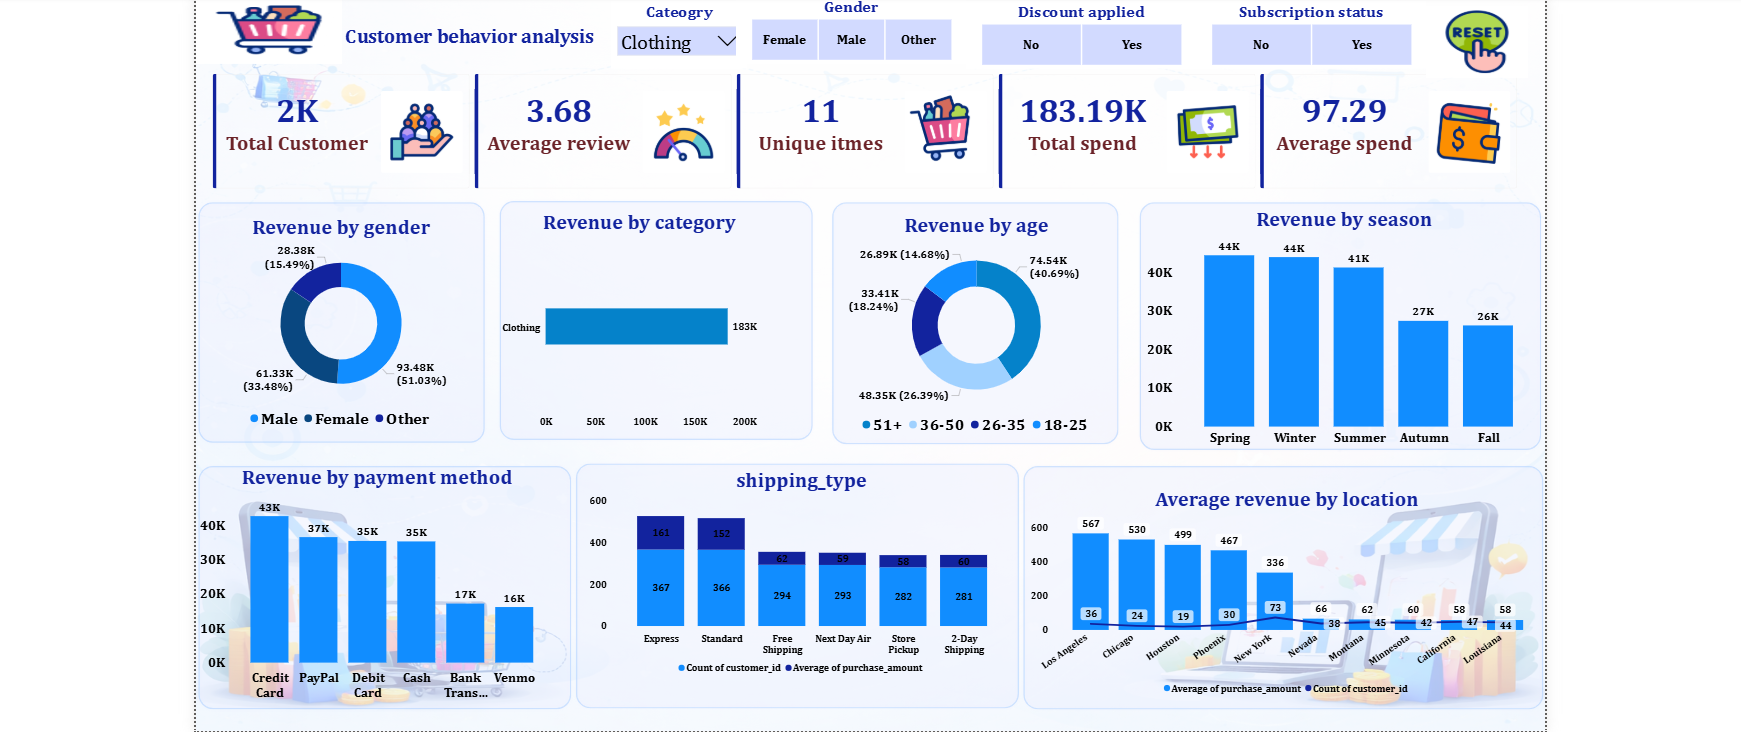

This screenshot's page, from the dashboard's own definition file:
{"tool":"powerbi","page":{"name":"Customer analysis revenue","canvas":[2200,1200],"ordinal":0},"visuals":[{"type":"cardVisual","fields":{"Data":["customer_behavior customer.Total Customer","customer_behavior customer.Average review","customer_behavior customer.Unique itmes","customer_behavior customer.Total spend","customer_behavior customer.Average spend"]},"box":[10.2,110.6,2163.5,221.3],"z":0},{"type":"group","id":"g1","title":"Group 1","box":[491.7,330.2,518.2,397.7],"z":1000},{"type":"shape","box":[491.7,330.2,518.2,397.7],"z":1000,"group":"g1"},{"type":"shape","box":[0,332.6,474.8,400.1],"z":1000,"group":"g3"},{"type":"shape","box":[1034,332.6,474.8,402.5],"z":1000,"group":"g4"},{"type":"group","id":"g2","title":"Group 3","box":[1535.3,332.6,662.8,412.1],"z":2000},{"type":"donutChart","title":"Revenue by age","fields":{"Y":["Sum(customer_behavior customer.purchase_amount)"],"Category":["customer_behavior customer.age (groups)"]},"box":[1041.3,352.5,462.2,371.9],"z":2000,"group":"g4"},{"type":"donutChart","title":"Revenue by gender","fields":{"Category":["customer_behavior customer.gender"],"Y":["Sum(customer_behavior customer.purchase_amount)"]},"box":[31.3,357.2,412.1,357.6],"z":2000,"group":"g3"},{"type":"shape","box":[615.6,758.5,730.3,407.3],"z":2000,"group":"g7"},{"type":"group","id":"g3","title":"Group 4","box":[0,332.6,474.8,400.1],"z":3000},{"type":"barChart","title":"Revenue by category","fields":{"Category":["customer_behavior customer.category"],"Y":["Sum(customer_behavior customer.purchase_amount)"]},"box":[493.5,349.5,459.4,363.9],"z":3000,"group":"g1"},{"type":"group","id":"g4","title":"Group 4","box":[1034,332.6,474.8,402.5],"z":4000},{"type":"shape","box":[1535.3,332.6,662.5,412.1],"z":4000,"group":"g2"},{"type":"shape","box":[0,761.6,615.7,404.6],"z":4000,"group":"g5"},{"type":"group","id":"g5","title":"Group 3","box":[0,761.6,614.6,404.9],"z":5000},{"type":"shape","box":[1344.9,761.6,855.6,404.9],"z":5000,"group":"g6"},{"type":"clusteredColumnChart","title":"Revenue by season","fields":{"Category":["customer_behavior customer.season"],"Y":["Sum(customer_behavior customer.purchase_amount)"]},"box":[1547.5,343.8,650.6,398.8],"z":6000,"group":"g2"},{"type":"group","id":"g6","title":"Group 5","box":[1344.9,761.6,855.6,404.9],"z":6000},{"type":"clusteredColumnChart","title":"Revenue by payment method","fields":{"Category":["customer_behavior customer.payment_method"],"Y":["Sum(customer_behavior customer.purchase_amount)"]},"box":[2.4,763.1,586.8,391.8],"z":6000,"group":"g5"},{"type":"columnChart","title":"shipping_type","fields":{"Category":["customer_behavior customer.shipping_type"],"Y":["CountNonNull(customer_behavior customer.customer_id)","Avg(customer_behavior customer.purchase_amount)"]},"box":[637.3,768.1,698.9,347.1],"z":6000,"group":"g7"},{"type":"group","id":"g7","title":"Group 2","box":[615.6,758.5,730.3,407.3],"z":7000},{"type":"lineClusteredColumnComboChart","title":"Average revenue by location","fields":{"Category":["customer_behavior customer.location"],"Y":["Avg(customer_behavior customer.purchase_amount)"],"Y2":["CountNonNull(customer_behavior customer.customer_id)"]},"box":[1357.7,799,842.8,349.9],"z":7000,"group":"g6"},{"type":"textbox","box":[237.7,41,438.4,69.7],"z":8000},{"type":"actionButton","box":[0,0,237.7,110.6],"z":9000},{"type":"slicer","title":"Cateogry","fields":{"Values":["customer_behavior customer.category"]},"box":[676.1,8.2,221.3,110.6],"z":10000},{"type":"slicer","title":"Gender","fields":{"Values":["customer_behavior customer.gender"]},"box":[881,0,374.9,110.6],"z":11000},{"type":"slicer","title":"Discount applied","fields":{"Values":["customer_behavior customer.discount_applied"]},"box":[1255.9,8.2,374.9,110.6],"z":12000},{"type":"slicer","title":"Subscription status","fields":{"Values":["customer_behavior customer.subscription_status"]},"box":[1630.8,8.2,374.9,110.6],"z":13000},{"type":"actionButton","box":[2006.4,15.3,166.4,116.7],"z":14000}]}

Visuals, with their boxes on the page's 2200x1200 design canvas (x1, y1, x2, y2). These are canvas units, not pixel positions in the 1741x732 screenshot, which may show the page scaled, cropped or inside an application window:
cardVisual - customer_behavior customer.Total Customer x customer_behavior customer.Average review: {"left": 10, "top": 111, "right": 2174, "bottom": 332}
"Group 1" group: {"left": 492, "top": 330, "right": 1010, "bottom": 728}
shape: {"left": 492, "top": 330, "right": 1010, "bottom": 728}
shape: {"left": 0, "top": 333, "right": 475, "bottom": 733}
shape: {"left": 1034, "top": 333, "right": 1509, "bottom": 735}
"Group 3" group: {"left": 1535, "top": 333, "right": 2198, "bottom": 745}
"Revenue by age" donutChart: {"left": 1041, "top": 352, "right": 1504, "bottom": 724}
"Revenue by gender" donutChart: {"left": 31, "top": 357, "right": 443, "bottom": 715}
shape: {"left": 616, "top": 758, "right": 1346, "bottom": 1166}
"Group 4" group: {"left": 0, "top": 333, "right": 475, "bottom": 733}
"Revenue by category" barChart: {"left": 494, "top": 350, "right": 953, "bottom": 713}
"Group 4" group: {"left": 1034, "top": 333, "right": 1509, "bottom": 735}
shape: {"left": 1535, "top": 333, "right": 2198, "bottom": 745}
shape: {"left": 0, "top": 762, "right": 616, "bottom": 1166}
"Group 3" group: {"left": 0, "top": 762, "right": 615, "bottom": 1166}
shape: {"left": 1345, "top": 762, "right": 2200, "bottom": 1166}
"Revenue by season" clusteredColumnChart: {"left": 1548, "top": 344, "right": 2198, "bottom": 743}
"Group 5" group: {"left": 1345, "top": 762, "right": 2200, "bottom": 1166}
"Revenue by payment method" clusteredColumnChart: {"left": 2, "top": 763, "right": 589, "bottom": 1155}
"shipping_type" columnChart: {"left": 637, "top": 768, "right": 1336, "bottom": 1115}
"Group 2" group: {"left": 616, "top": 758, "right": 1346, "bottom": 1166}
"Average revenue by location" lineClusteredColumnComboChart: {"left": 1358, "top": 799, "right": 2200, "bottom": 1149}
textbox: {"left": 238, "top": 41, "right": 676, "bottom": 111}
actionButton: {"left": 0, "top": 0, "right": 238, "bottom": 111}
"Cateogry" slicer: {"left": 676, "top": 8, "right": 897, "bottom": 119}
"Gender" slicer: {"left": 881, "top": 0, "right": 1256, "bottom": 111}
"Discount applied" slicer: {"left": 1256, "top": 8, "right": 1631, "bottom": 119}
"Subscription status" slicer: {"left": 1631, "top": 8, "right": 2006, "bottom": 119}
actionButton: {"left": 2006, "top": 15, "right": 2173, "bottom": 132}
